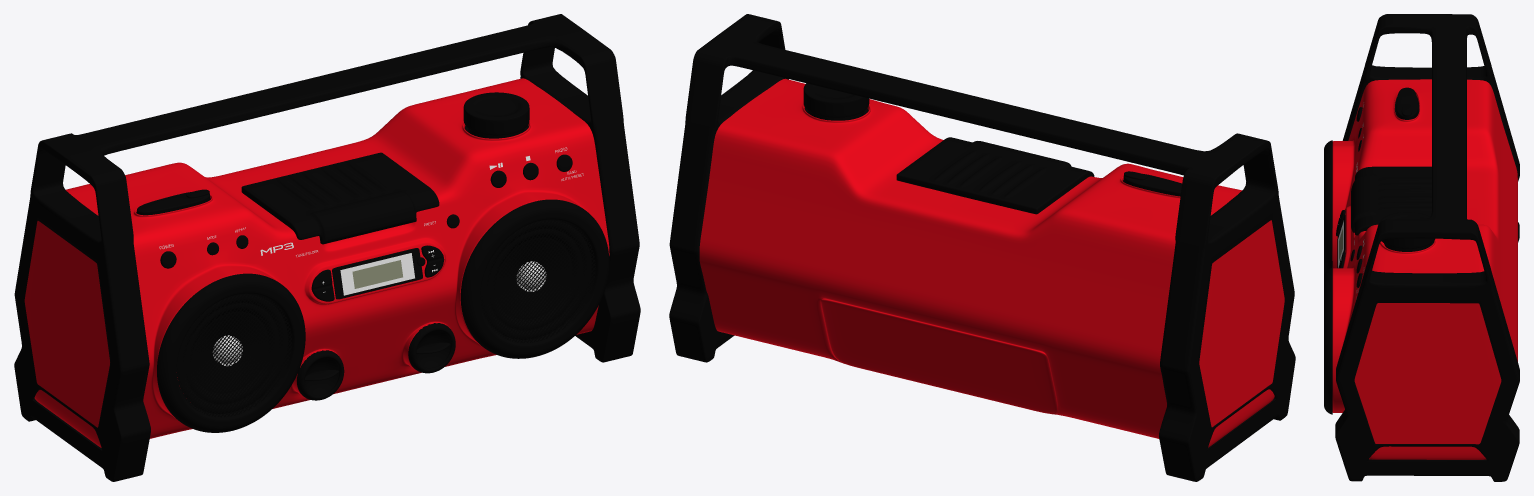
File: Test3054137_Sony+ZS-H10CP.fbx
3 views of the same model, side by side, from view 1: azimuth 30°, elevation 25°; view 2: azimuth 150°, elevation 25°; view 3: azimuth 270°, elevation 25° (orthographic). The views are drawn at different scales.
Visible parts, largest first — view 1: Boombox; view 2: Boombox; view 3: Boombox.
Boxes of the visible parts, <box> form: Boombox: <box>14,14,640,481</box>; Boombox: <box>669,14,1295,481</box>; Boombox: <box>1324,14,1519,481</box>.
Size of the model in its own units: 949 by 508 by 360.
